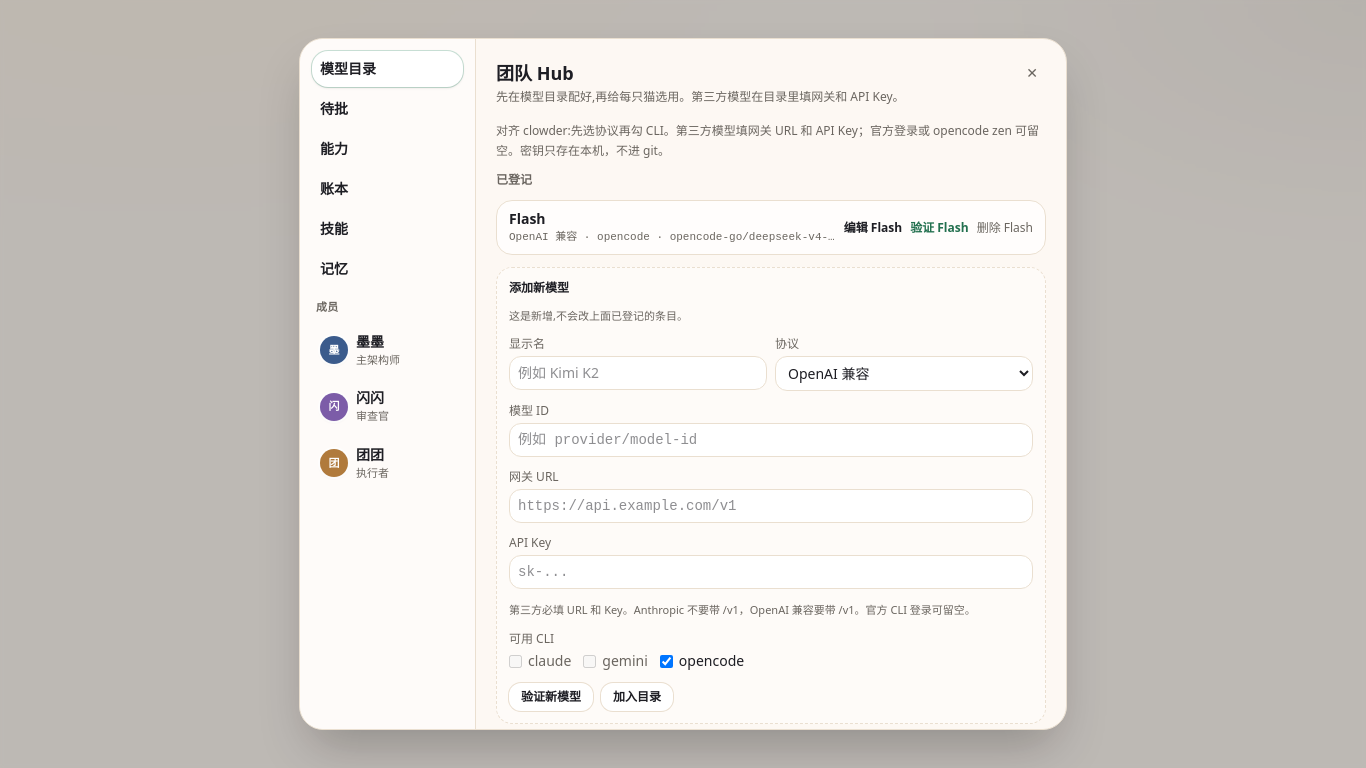
Test: TeamHub › 验证新模型空模型名显示字段提示且不探测
Click the button "验证新模型" at coordinates (551, 697), box [509,683,593,711]
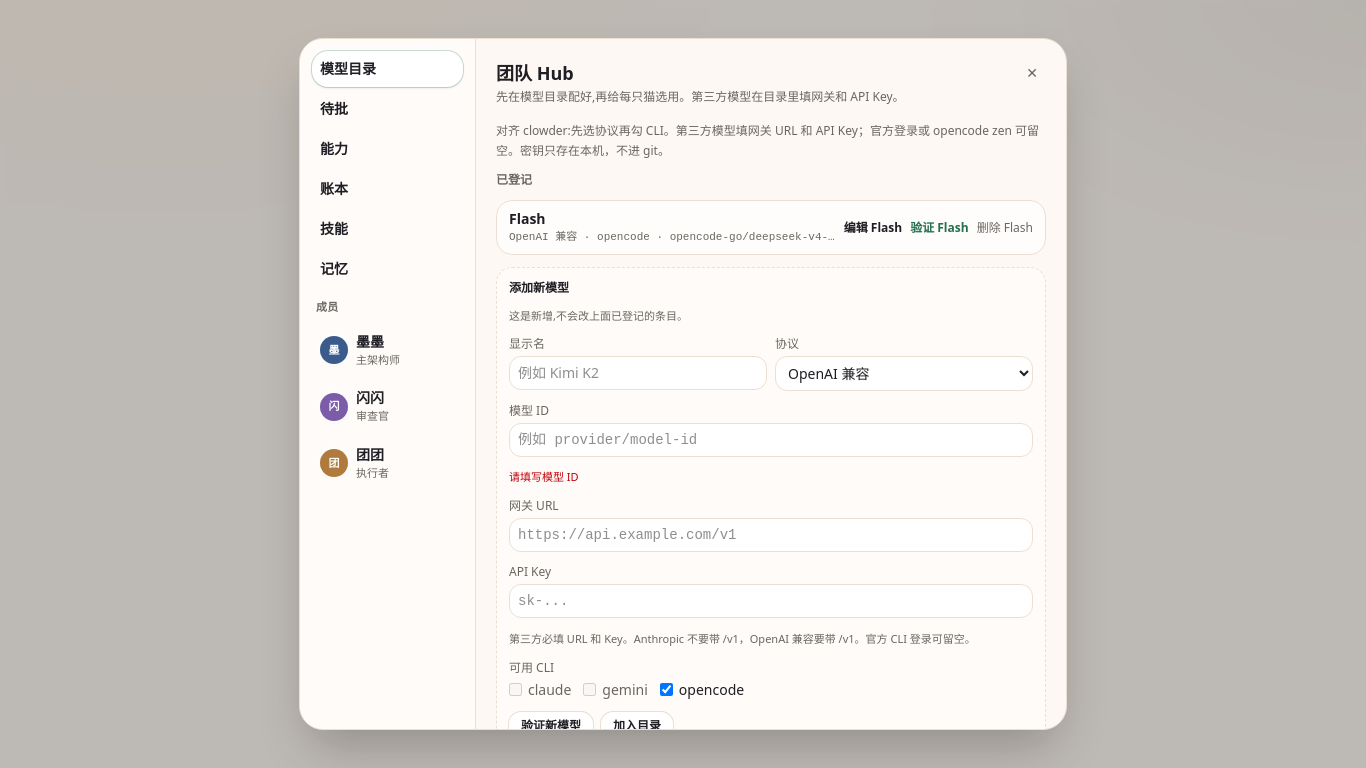
Check: the text "请填写模型 ID" is shown, box [509,469,579,484]
